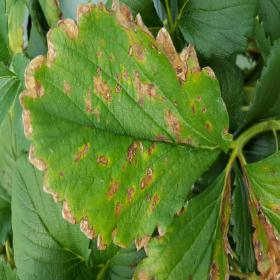Angular Leafspot: (18, 0, 235, 252), (132, 157, 234, 279), (239, 151, 279, 279)
